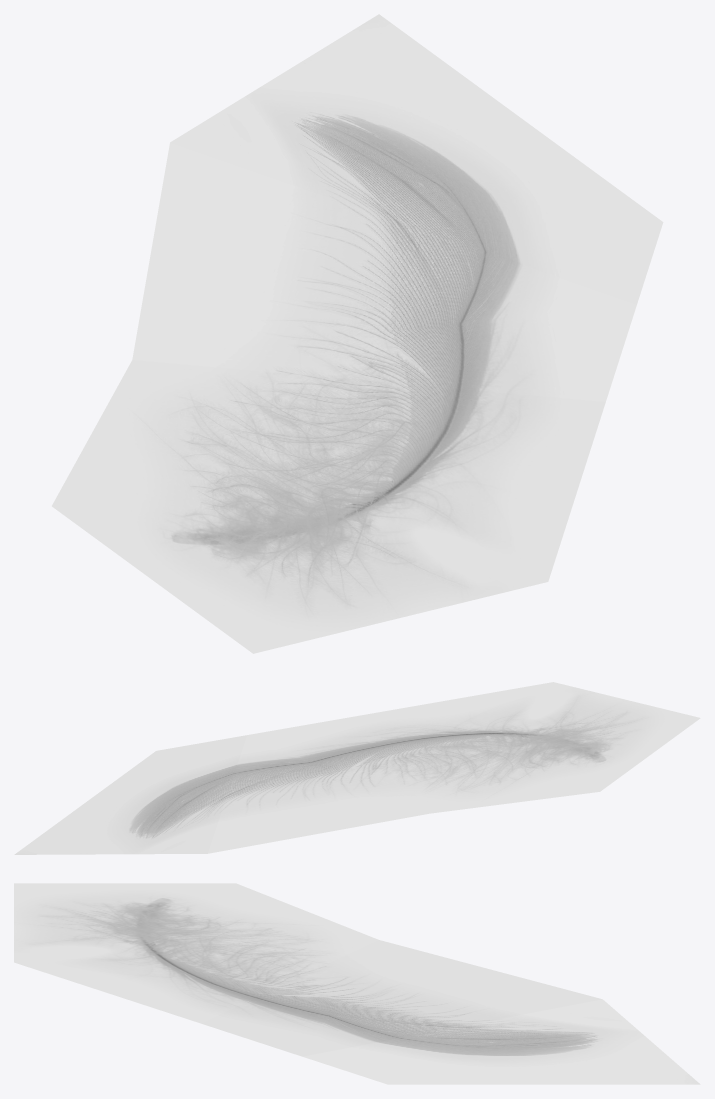
File: SM_Feather.fbx
3 views of the same model, one above another, from view 1: azimuth 30°, elevation 25°; view 2: azimuth 150°, elevation 25°; view 3: azimuth 270°, elevation 25° (orthographic). The views are drawn at different scales.
Parts seen in each view (by area): view 1: SM_Feather; view 2: SM_Feather; view 3: SM_Feather.
Boxes of the visible parts, box(x1,y1,x2,y2) form: SM_Feather: box(52, 14, 663, 653); SM_Feather: box(14, 682, 700, 854); SM_Feather: box(14, 883, 700, 1084).
Size of the model in its own units: 0.1388 by 0.00171 by 0.2.
